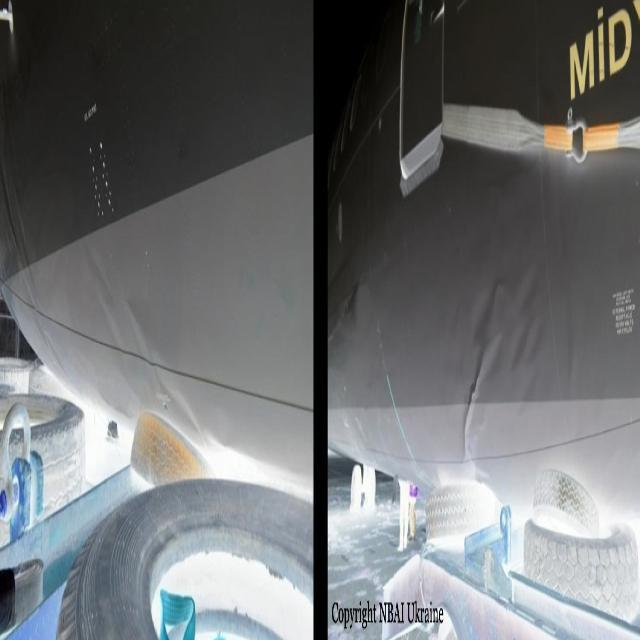dent: (70, 227, 208, 457), (462, 270, 546, 478)
